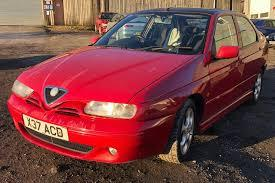windshield: (91, 13, 215, 59)
